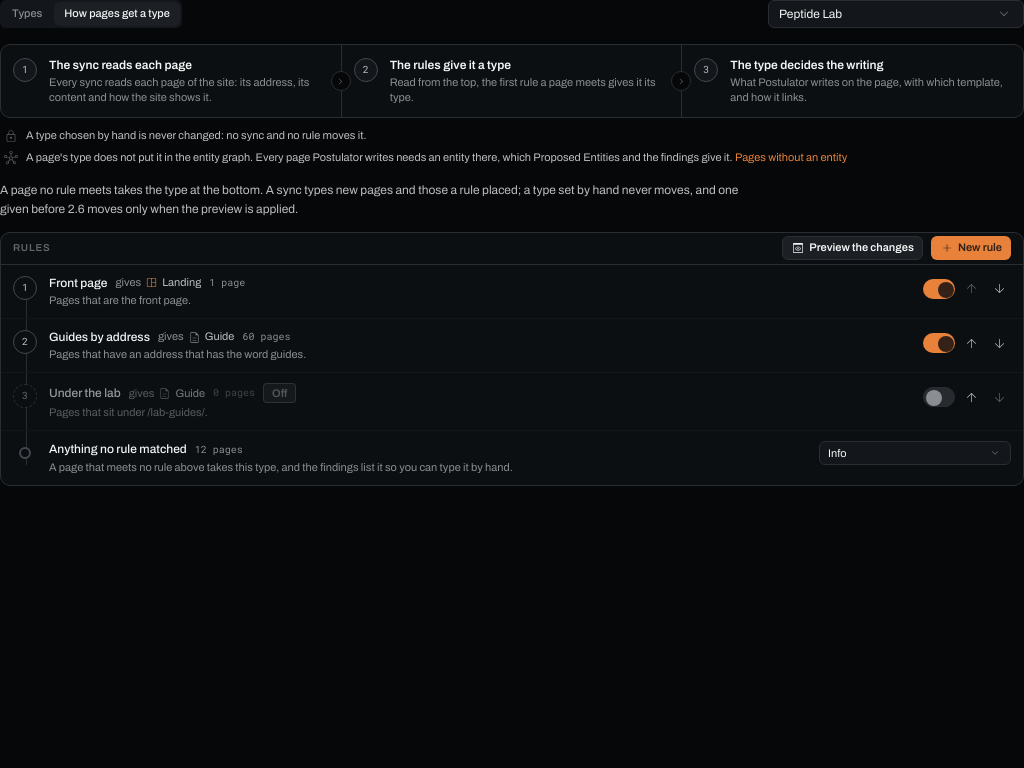
Test case: Settings, Page types, how pages get a type › says the rule cannot give its type to this kind of post, and shows the shop as the shop
Click the button with aria-label "Edit Guides by address" at (99, 337), box [49, 329, 911, 362]
(page scrolled)
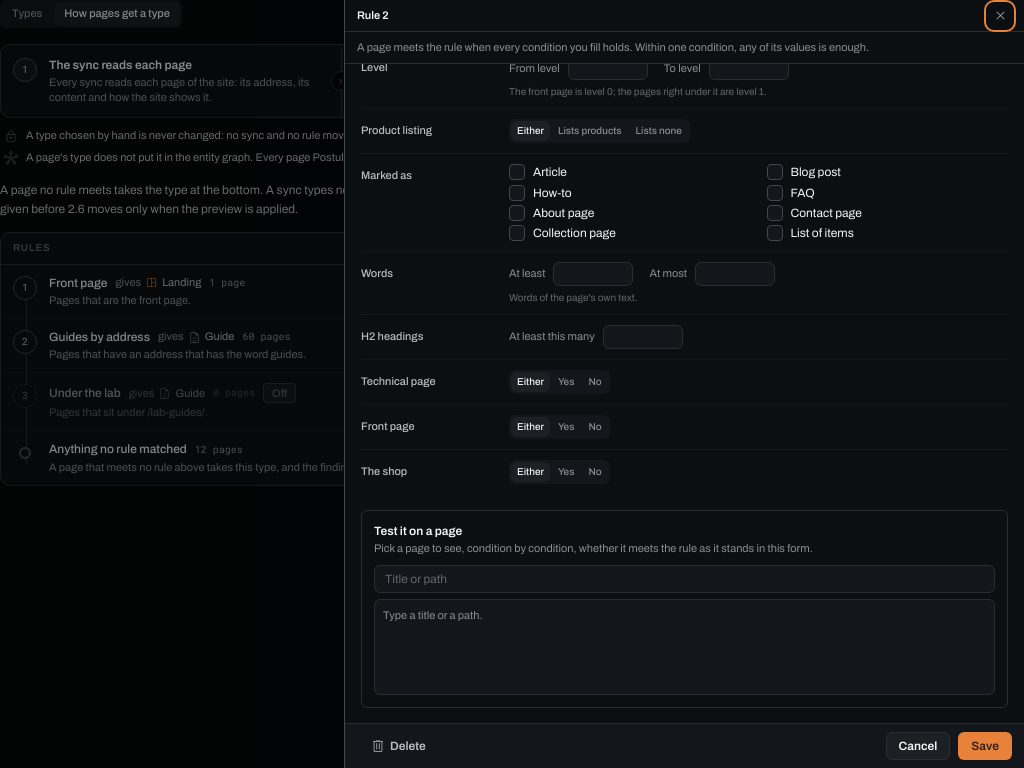
Type "recon" into the search field at (684, 579), box [374, 565, 995, 593]
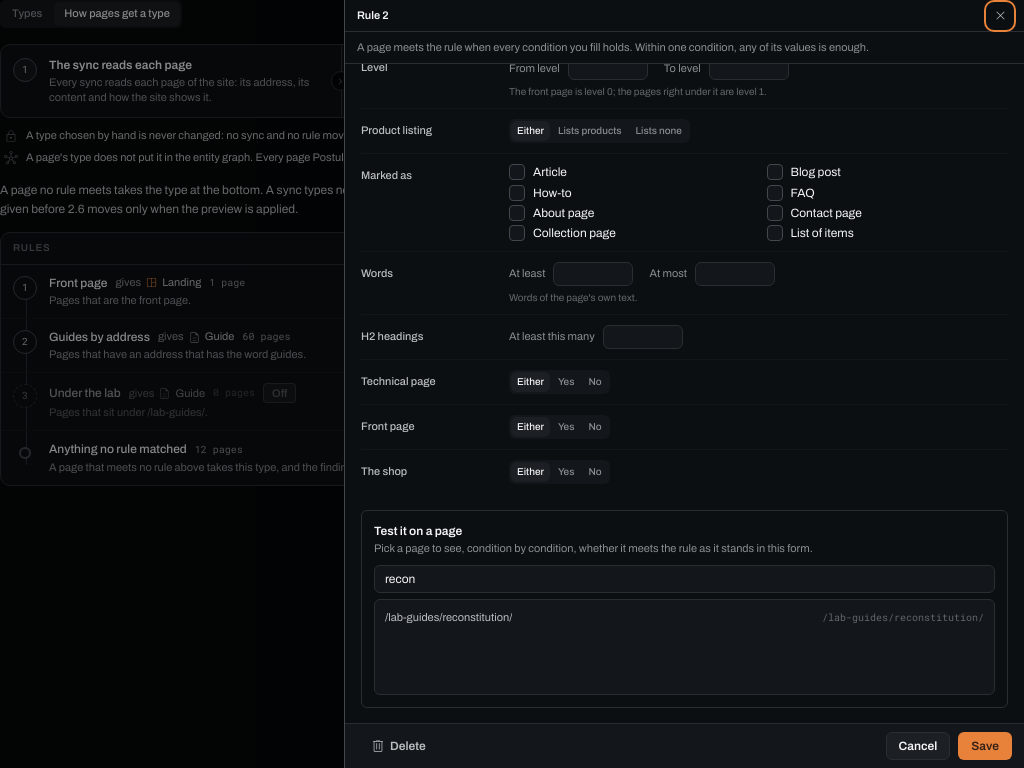
Check: the option "/lab-guides/reconstitution/ /lab-guides/reconstitution/" is shown
Click the option "/lab-guides/reconstitution/ /lab-guides/reconstitution/" at (449, 617), box [379, 604, 990, 632]
(page scrolled)
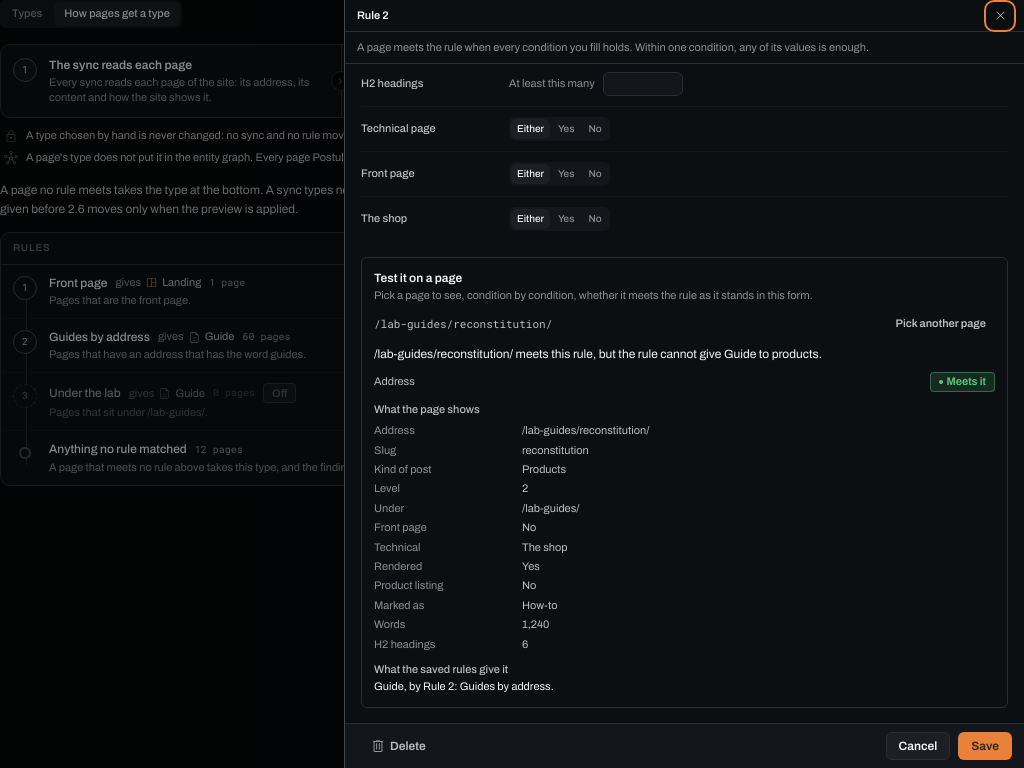
Check: the text "The shop" below "Level" is shown, box [522, 541, 568, 553]
